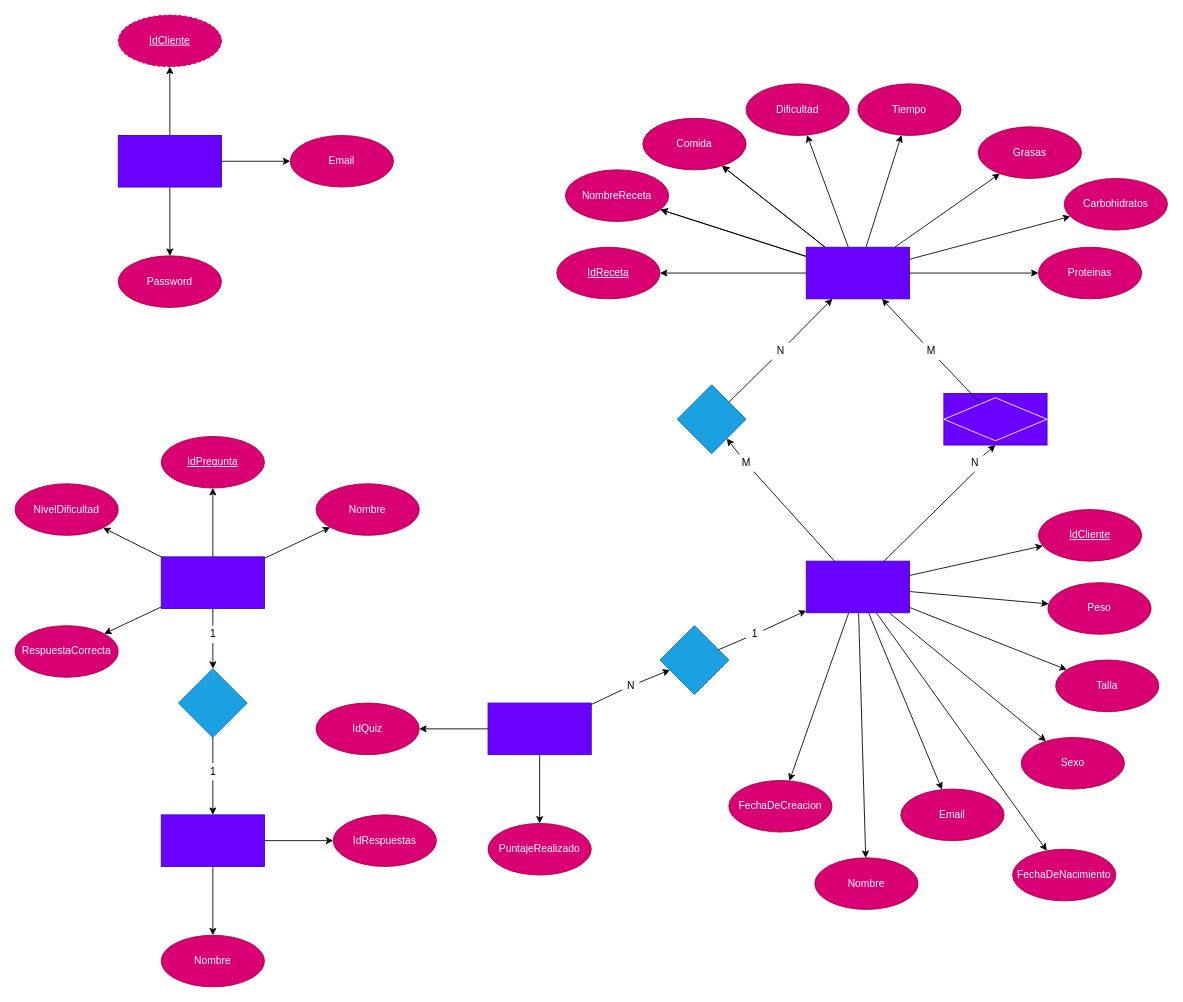
This 1183x1002 diagram has some shape labels left out. Each missing label, with the centre of its shape:
"Clientes" belongs at (x=857, y=586).
"Consulta" belongs at (x=711, y=419).
"Favoritos" belongs at (x=995, y=419).
"LA RESPUESTA CORRECTA ES" belongs at (x=212, y=702).
"Login" belongs at (x=169, y=161).
"Preguntas" belongs at (x=212, y=582).
"Quiz" belongs at (x=539, y=728).
"Realiza" belongs at (x=694, y=659).
"Recetas" belongs at (x=857, y=272).
"Respuestas" belongs at (x=212, y=840).
